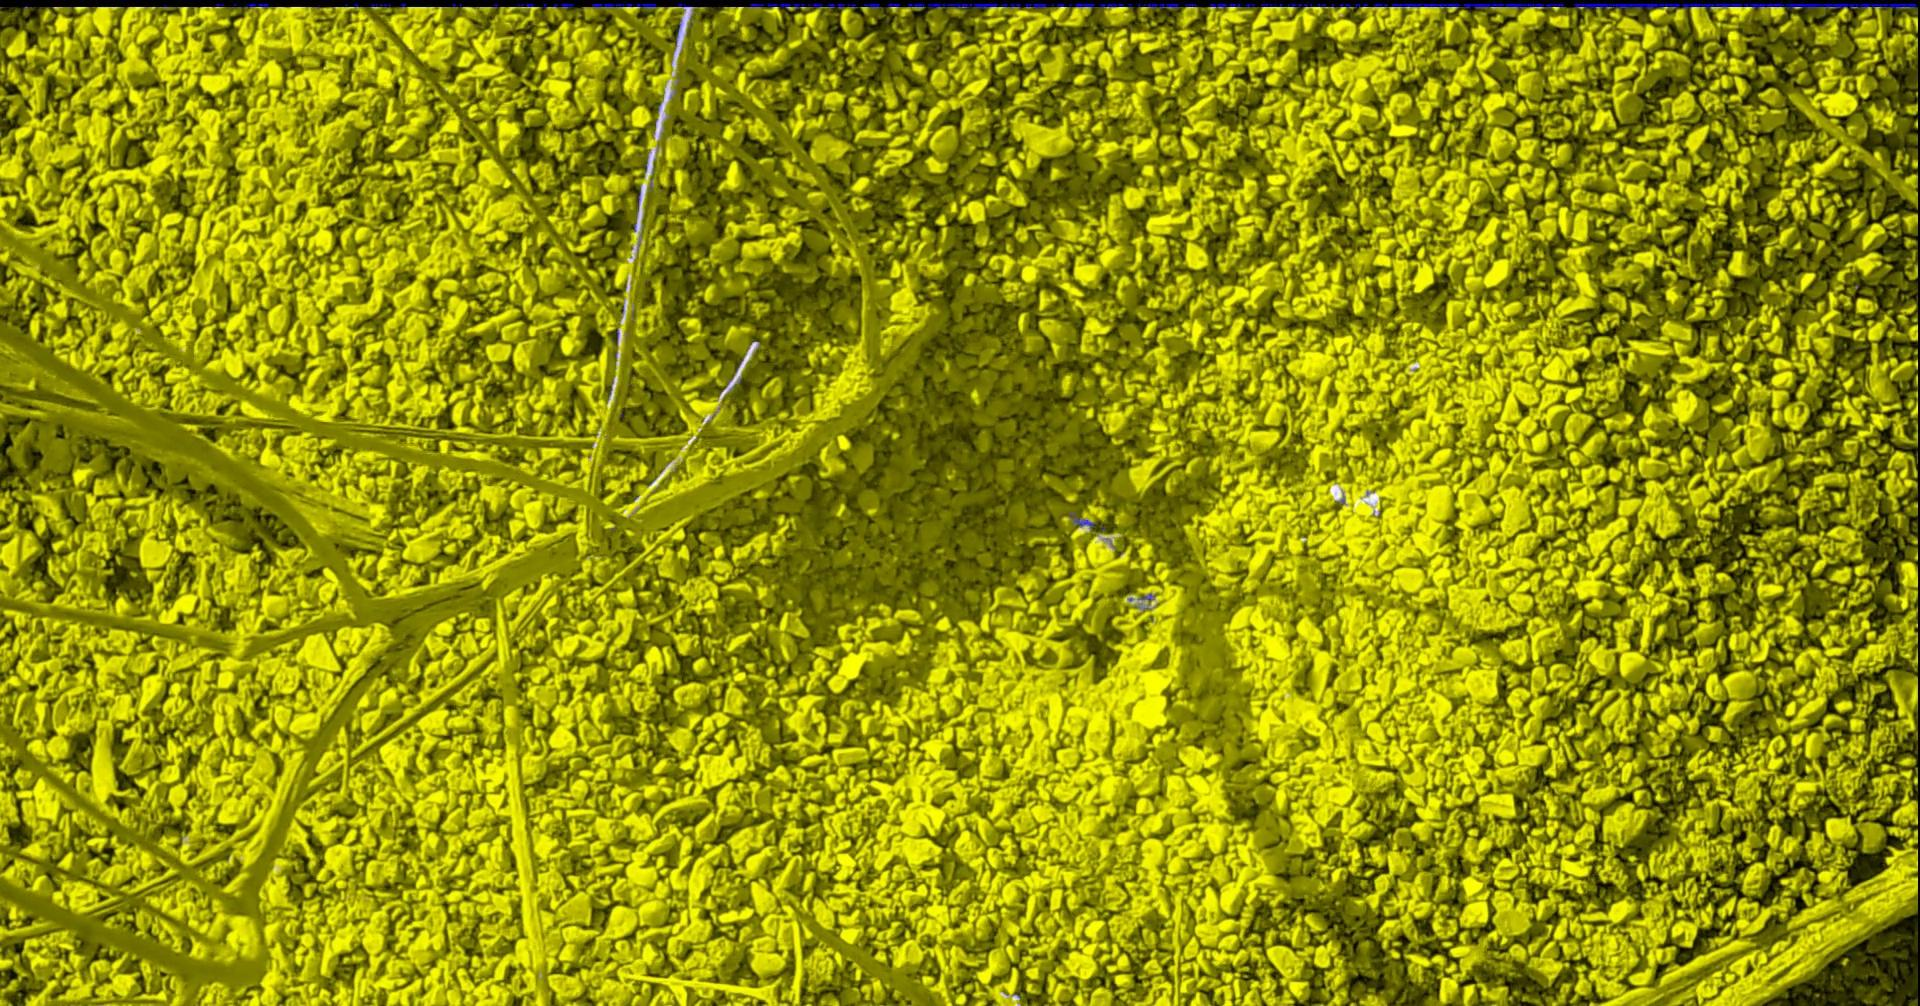ant: (909, 3, 1183, 8), (1375, 3, 1566, 8), (1211, 3, 1327, 8), (750, 3, 862, 8), (1070, 511, 1098, 528), (593, 3, 658, 8), (227, 3, 270, 8), (1333, 3, 1370, 8)
